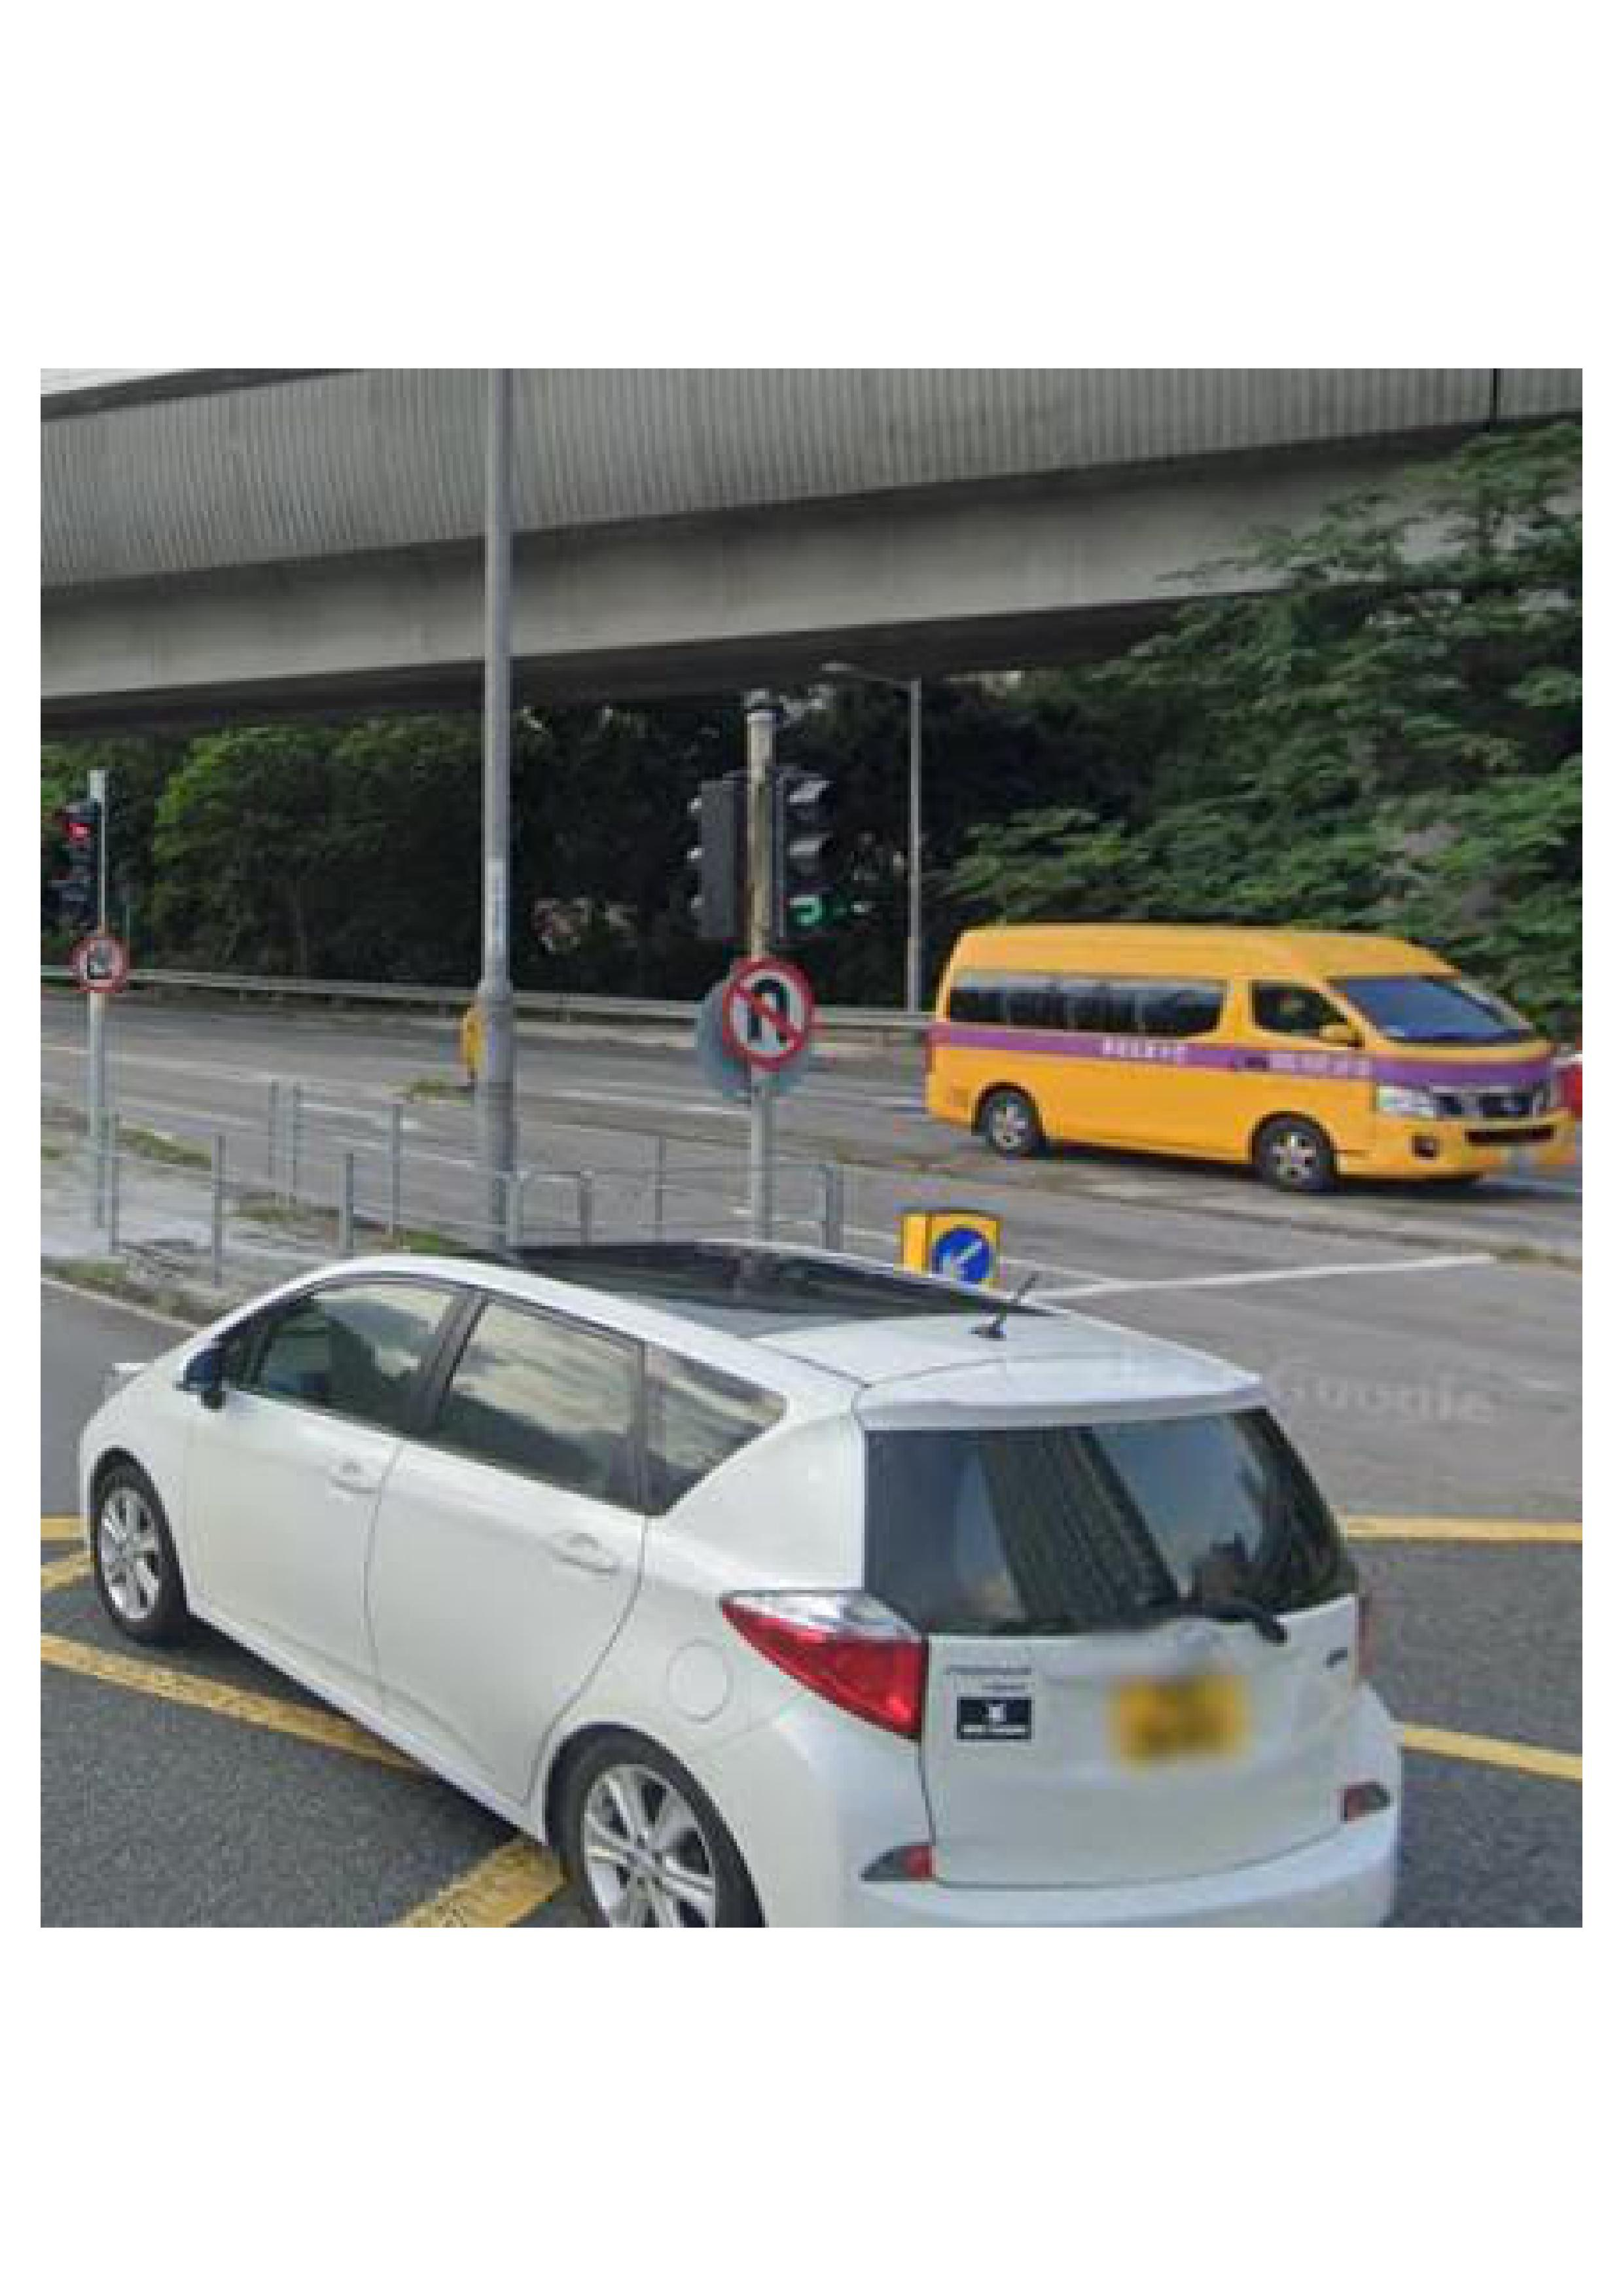No Uturn: (724, 957, 822, 1060)
